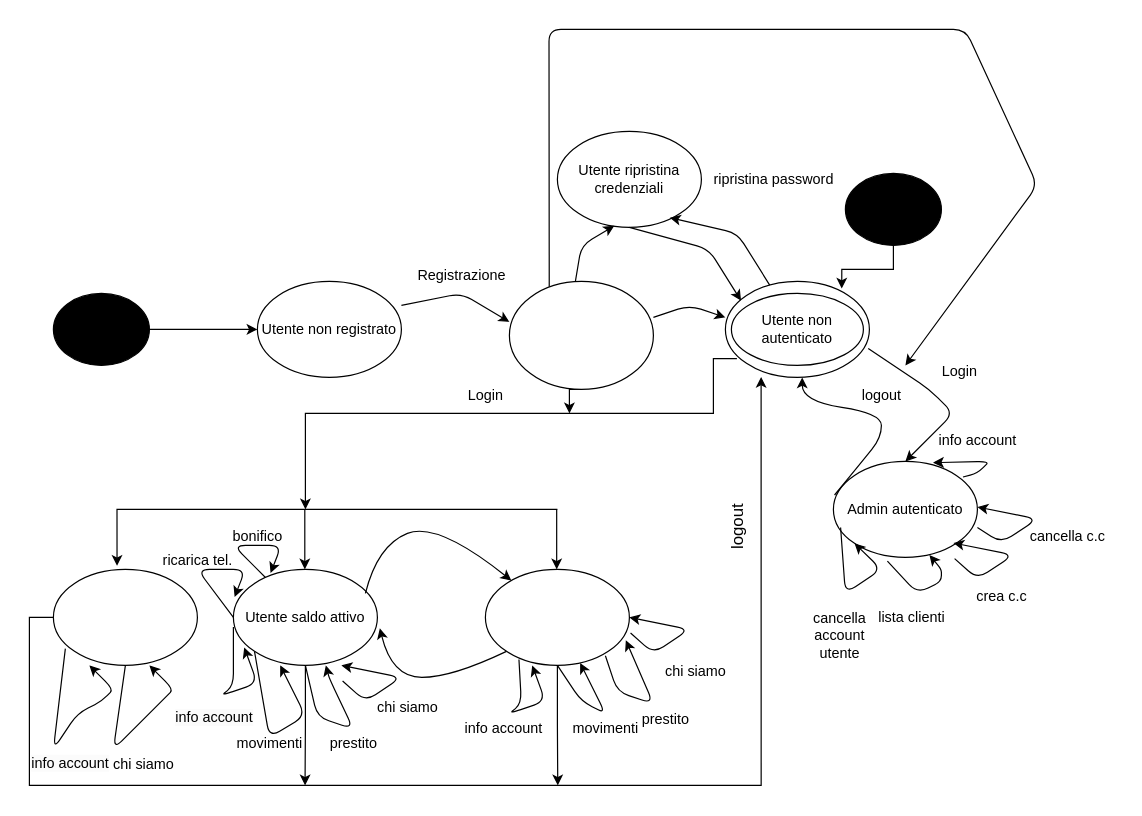
The diagram is 1142 pixels wide and 816 high, and some of its shapes have lost their labels. Each missing label, with the centre of its shape:
"Utente nuovo" belongs at point 124,616.
"Utente registrato" belongs at point 580,334.
"Utente saldo passivo" belongs at point 556,616.
